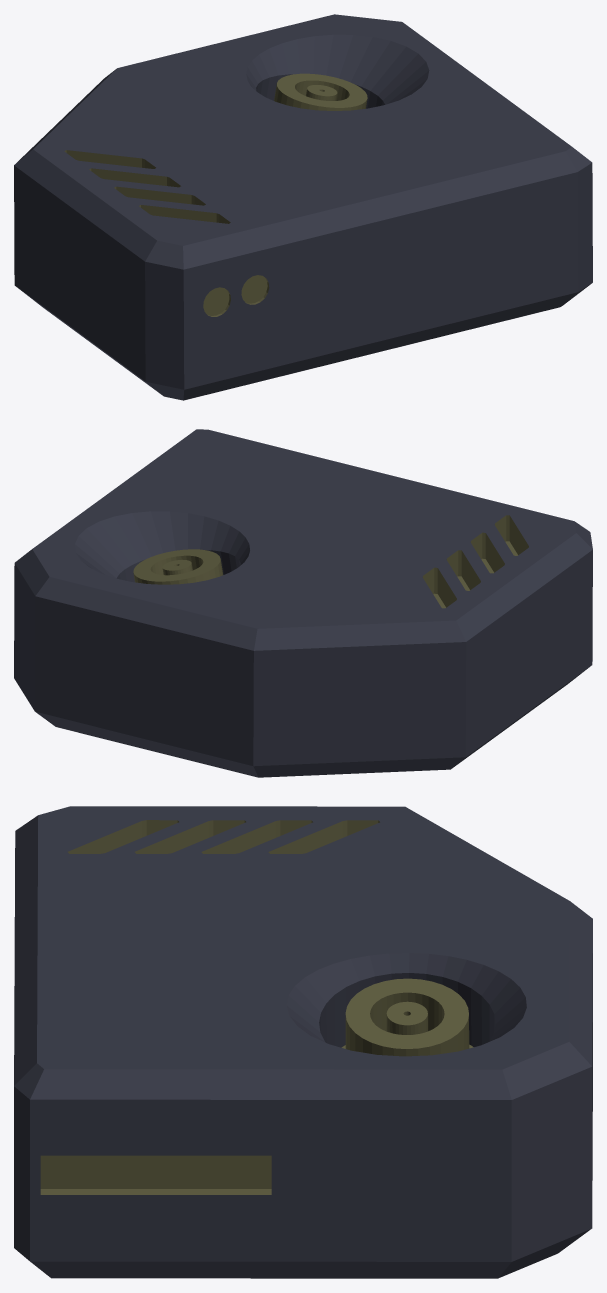
Rendered from 大门第二层-锅炉_001.fbx.
The picture shows the model from 3 angles, top to bottom: view 1: azimuth 30°, elevation 25°; view 2: azimuth 150°, elevation 25°; view 3: azimuth 270°, elevation 25°; orthographic projection. The views are drawn at different scales.
Visible parts, largest first — view 1: 大门第二层-锅炉.001; view 2: 大门第二层-锅炉.001; view 3: 大门第二层-锅炉.001.
Boxes of the visible parts, box(x1,y1,x2,y2) form: 大门第二层-锅炉.001: box(14, 14, 592, 400); 大门第二层-锅炉.001: box(14, 429, 592, 777); 大门第二层-锅炉.001: box(14, 806, 592, 1278).
Bounding box in the file's own units: 4.4 × 1.55 × 3.77.
